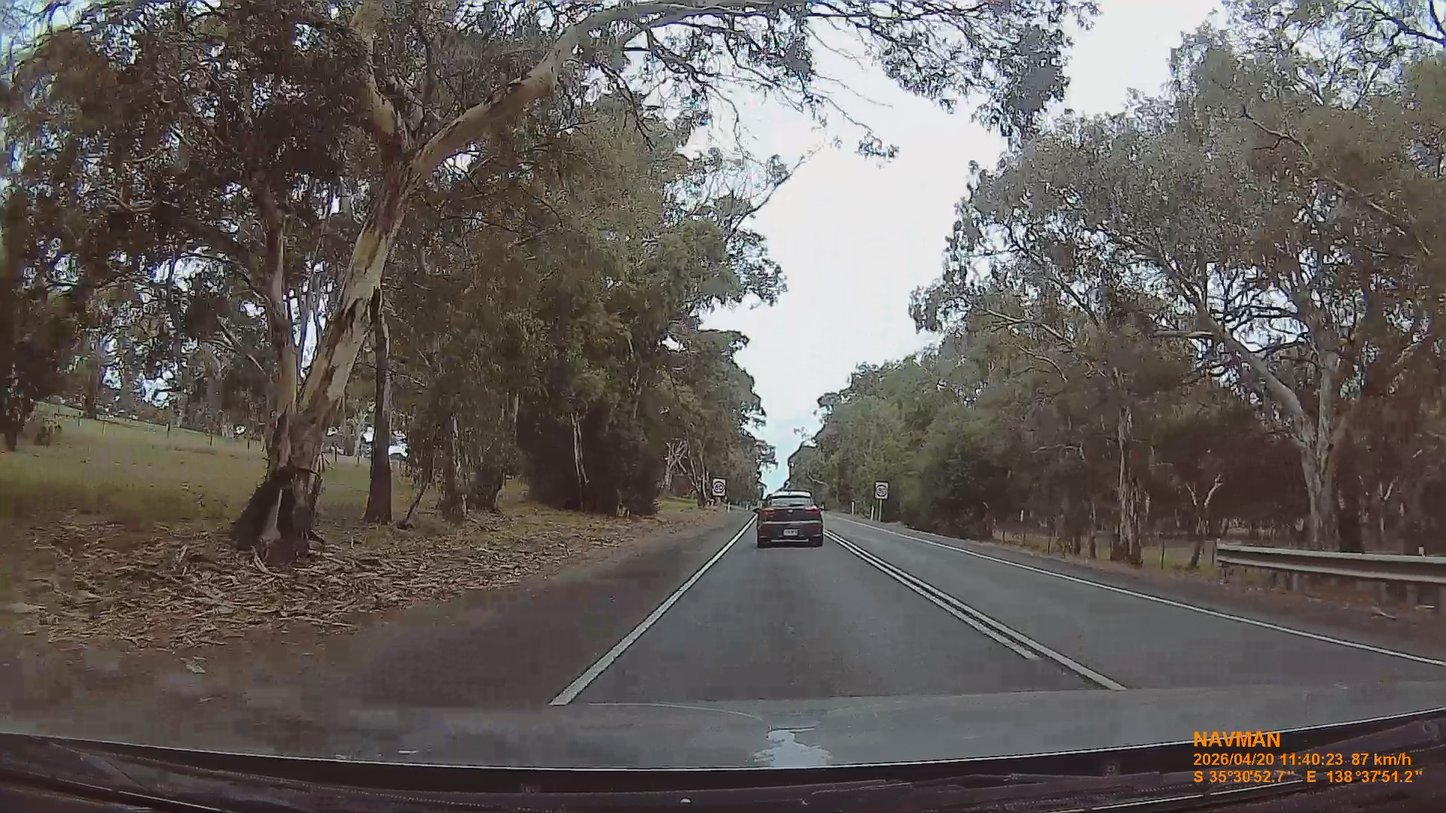road barriers: (1217, 542, 1445, 614)
